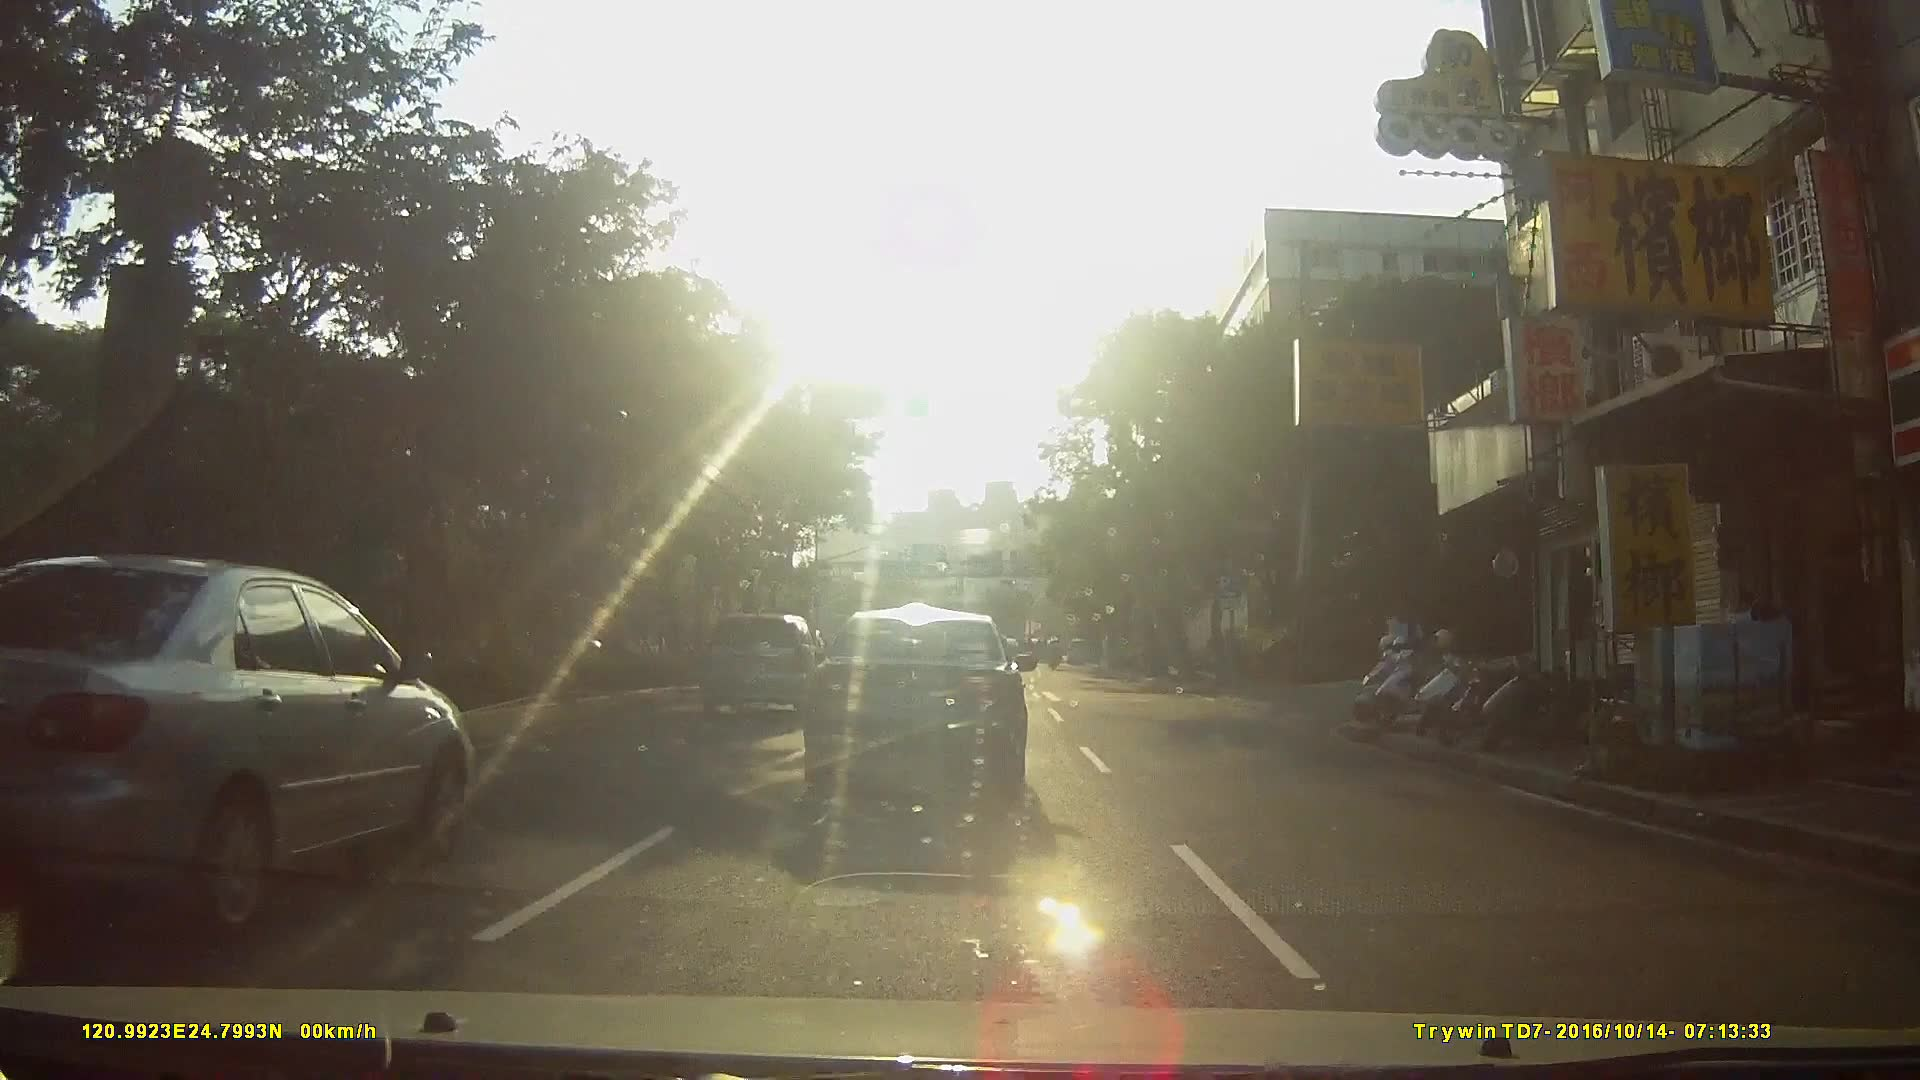pedestrian: (1726, 587, 1791, 743)
vehicle: (0, 555, 499, 930), (812, 605, 1051, 813), (703, 613, 828, 717), (1065, 637, 1099, 668)
